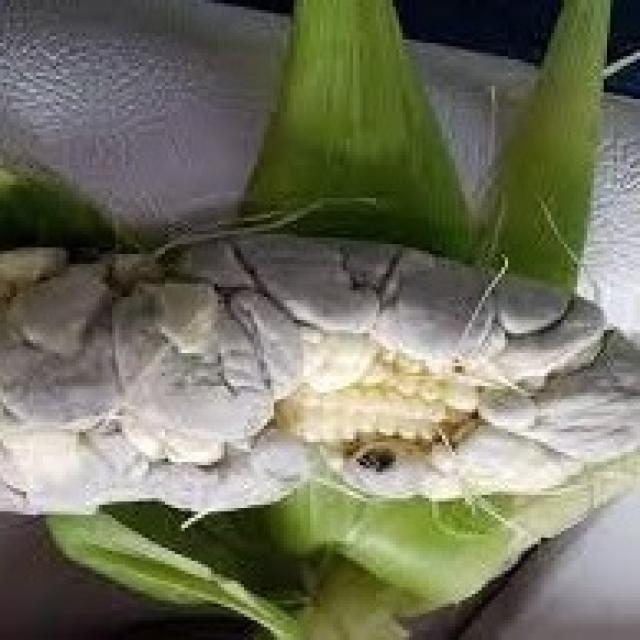Leaf_Scald: (0, 169, 640, 613)
